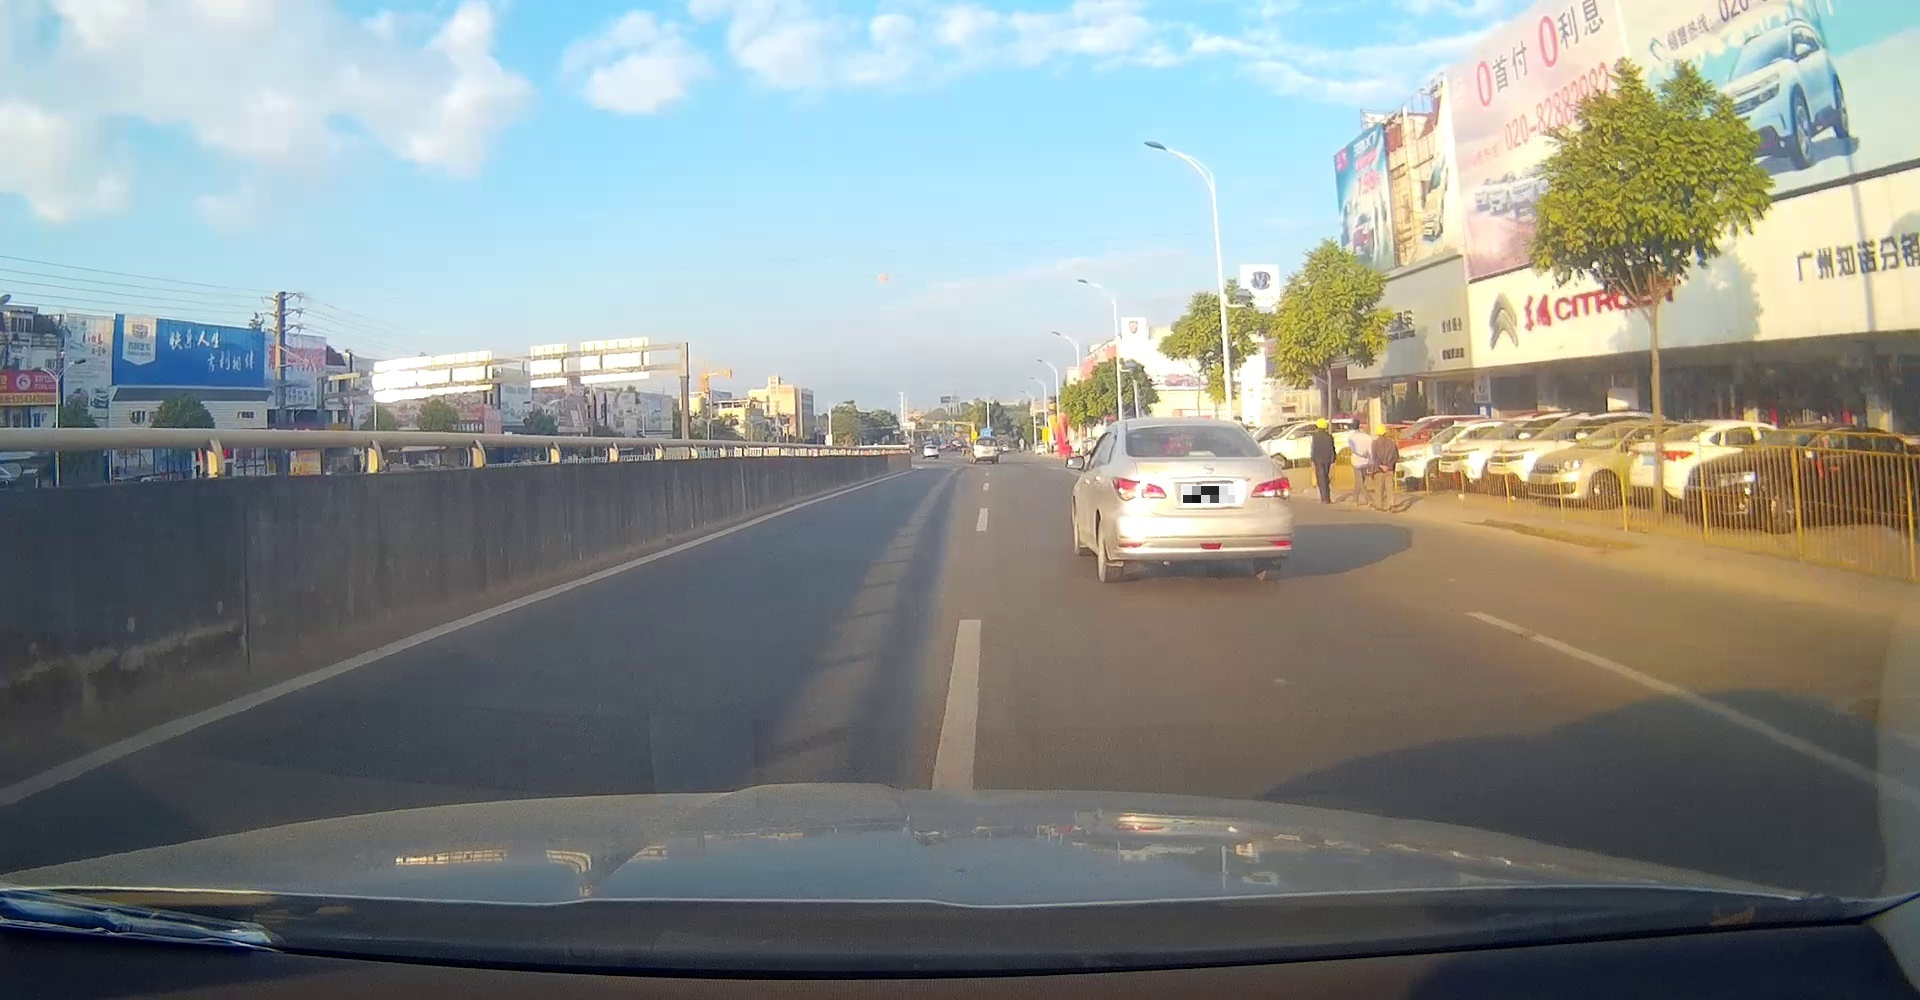L_light: (1111, 477, 1167, 503)
R_light: (1250, 477, 1291, 500)
T_light: (1186, 451, 1215, 457)
day-no: (1110, 418, 1293, 582)
plate_1: (1183, 486, 1236, 503)
